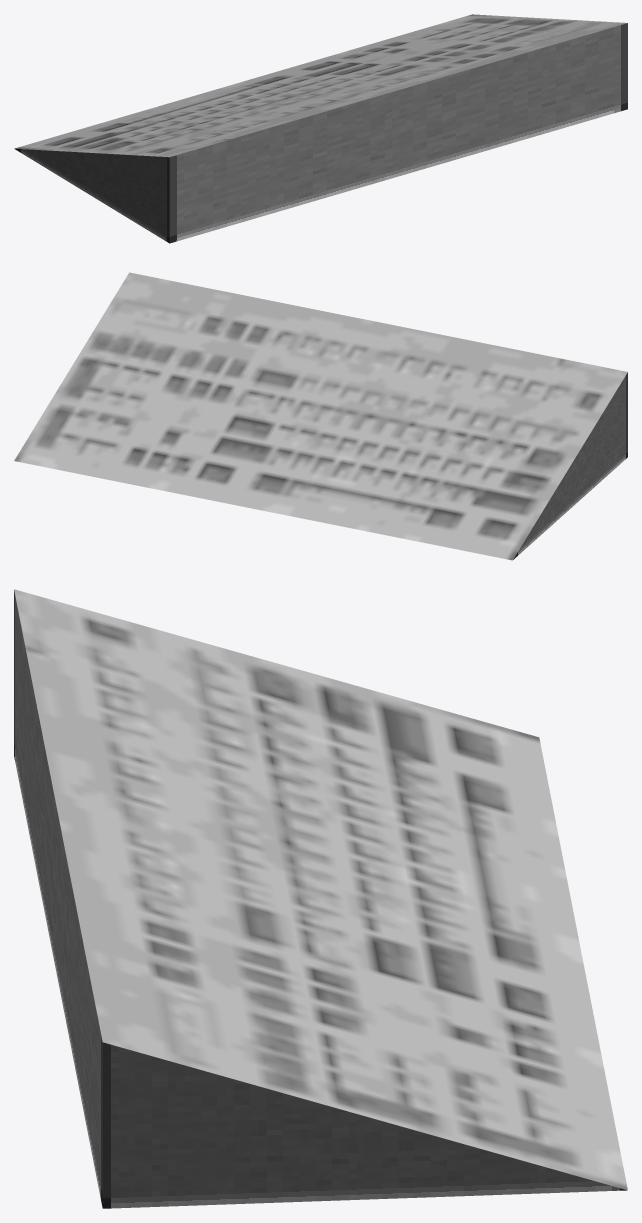
File: primary_086.glb
3 renders of one model, top to bottom at view 1: azimuth 30°, elevation 25°; view 2: azimuth 150°, elevation 25°; view 3: azimuth 270°, elevation 25°, orthographic. The views are drawn at different scales.
Parts seen in each view (by area): view 1: Object; view 2: Object; view 3: Object.
Boxes of the visible parts, x1,y1,x2,y2 form: Object: (14,14,627,243); Object: (14,272,627,560); Object: (14,589,627,1208).
Size of the model in its own units: 0.8259 by 0.136 by 0.4546.
4 materials, 4 textured.
